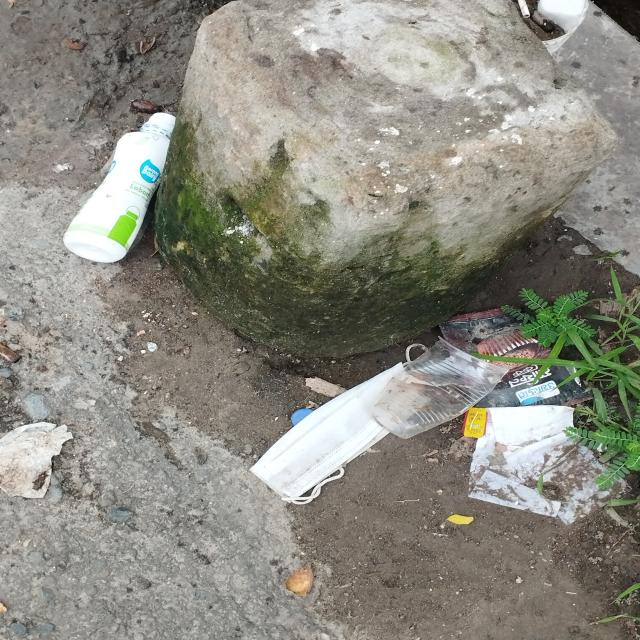plastic: (60, 111, 181, 264), (372, 335, 507, 437)
